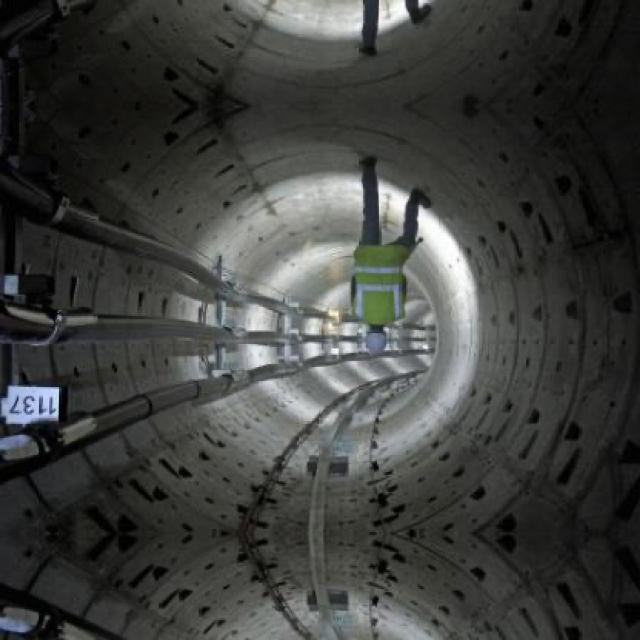con casco: (336, 304, 408, 368)
